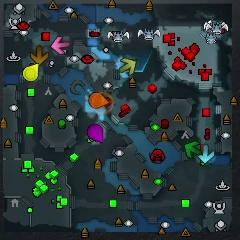p3: (88, 123, 104, 144)
p4: (23, 63, 40, 81)
p5: (89, 92, 110, 108)
x1: (51, 36, 70, 54)
x2: (119, 58, 136, 74)
x3: (197, 144, 215, 163)
x4: (185, 141, 202, 160)
x5: (32, 46, 48, 64)
